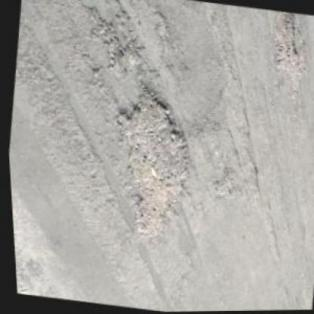Hueco: (94, 78, 208, 252), (260, 12, 314, 107), (104, 35, 146, 84), (208, 165, 236, 203)
